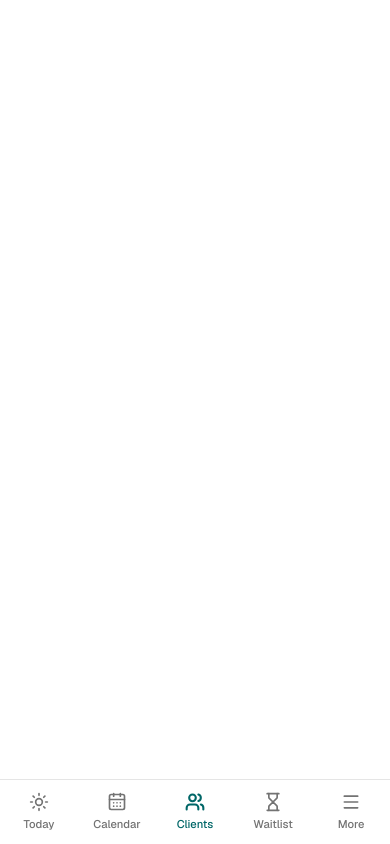
Test case: BottomTabBar › marks the current tab and opens More for the remaining sections
Expected: the link "Clients" is shown, [177,792,213,831]
Click the button "More": (351,812) [312,780,389,843]
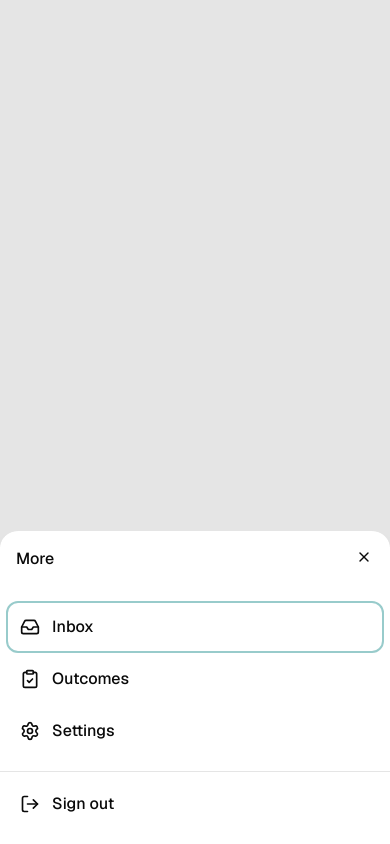
Now the button "Sign out" is shown, box [8,780,382,828]
